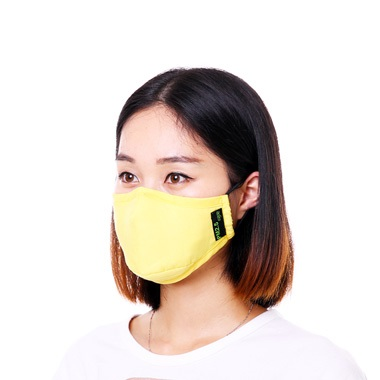face_mask: (111, 108, 233, 280)
